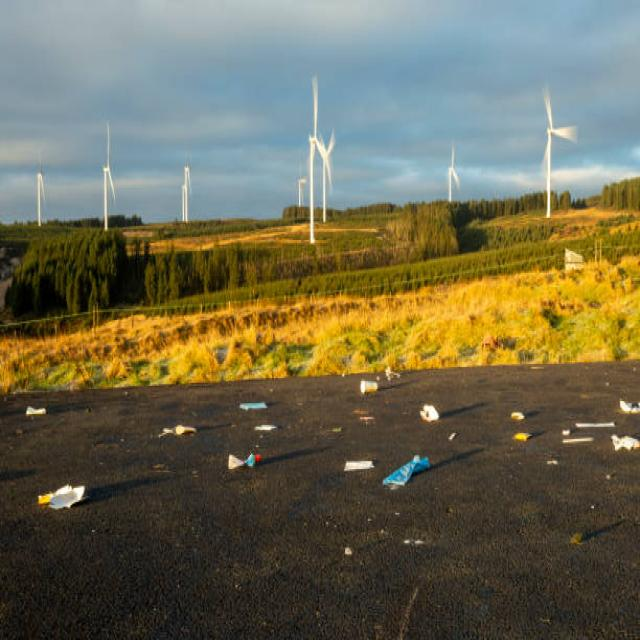plastic: (382, 447, 435, 511), (225, 447, 276, 485)
